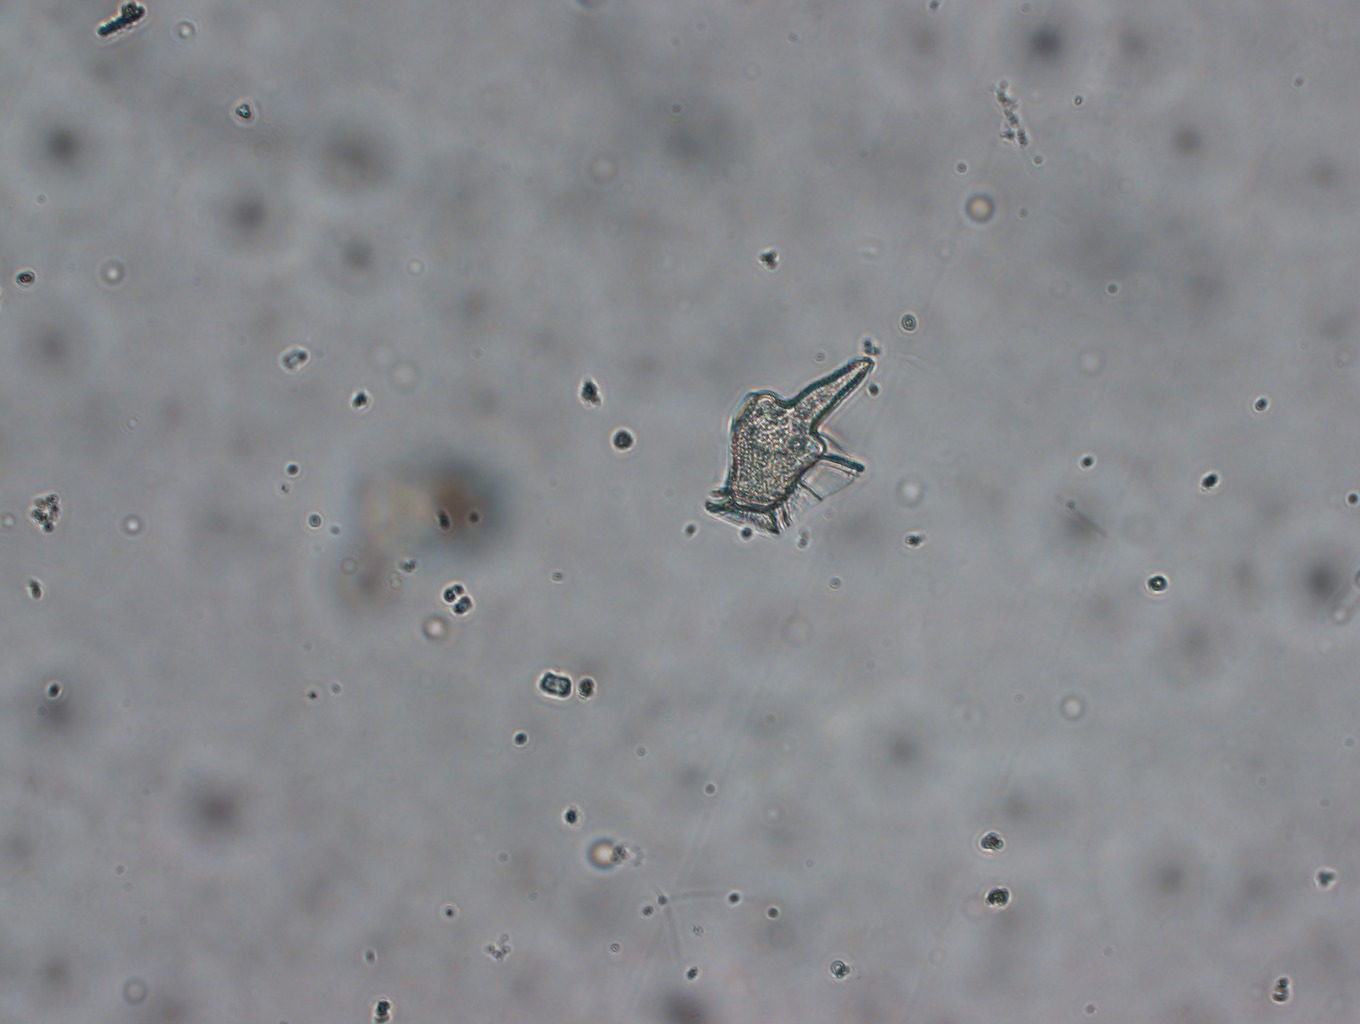dinophysis caudata: (702, 353, 873, 540)
